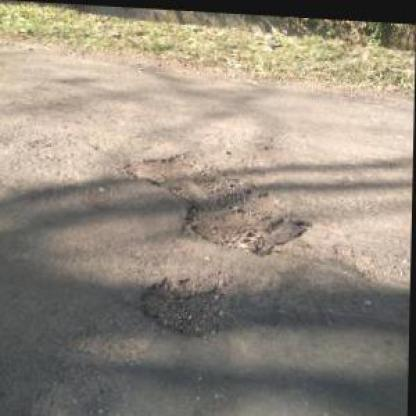pothole: (122, 141, 298, 251), (138, 270, 242, 338)
